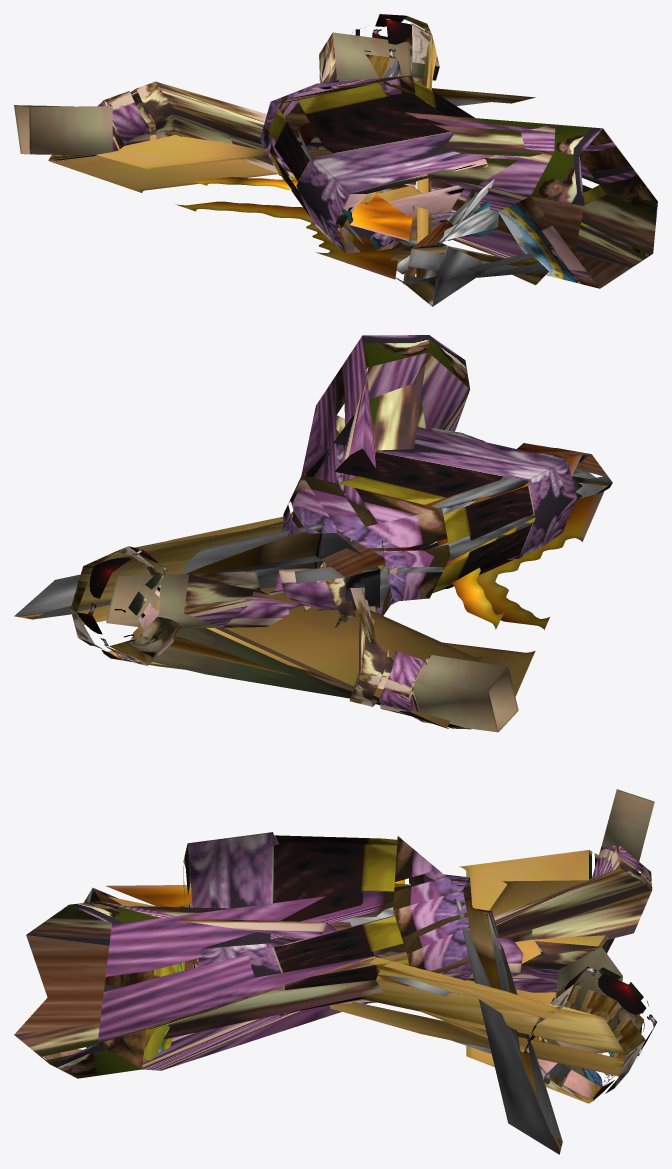
The picture shows the model from 3 angles, top to bottom: view 1: azimuth 30°, elevation 25°; view 2: azimuth 150°, elevation 25°; view 3: azimuth 270°, elevation 25°; orthographic projection. The views are drawn at different scales.
Visible parts, largest first — view 1: T1L6M002_8; view 2: T1L6M002_8; view 3: T1L6M002_8.
Part boxes in pixels (x1=…): T1L6M002_8: x1=14, y1=14, x2=657, y2=306; T1L6M002_8: x1=14, y1=335, x2=612, y2=732; T1L6M002_8: x1=14, y1=789, x2=656, y2=1154.
Size of the model in its own units: 1.49 by 0.4333 by 1.32.
